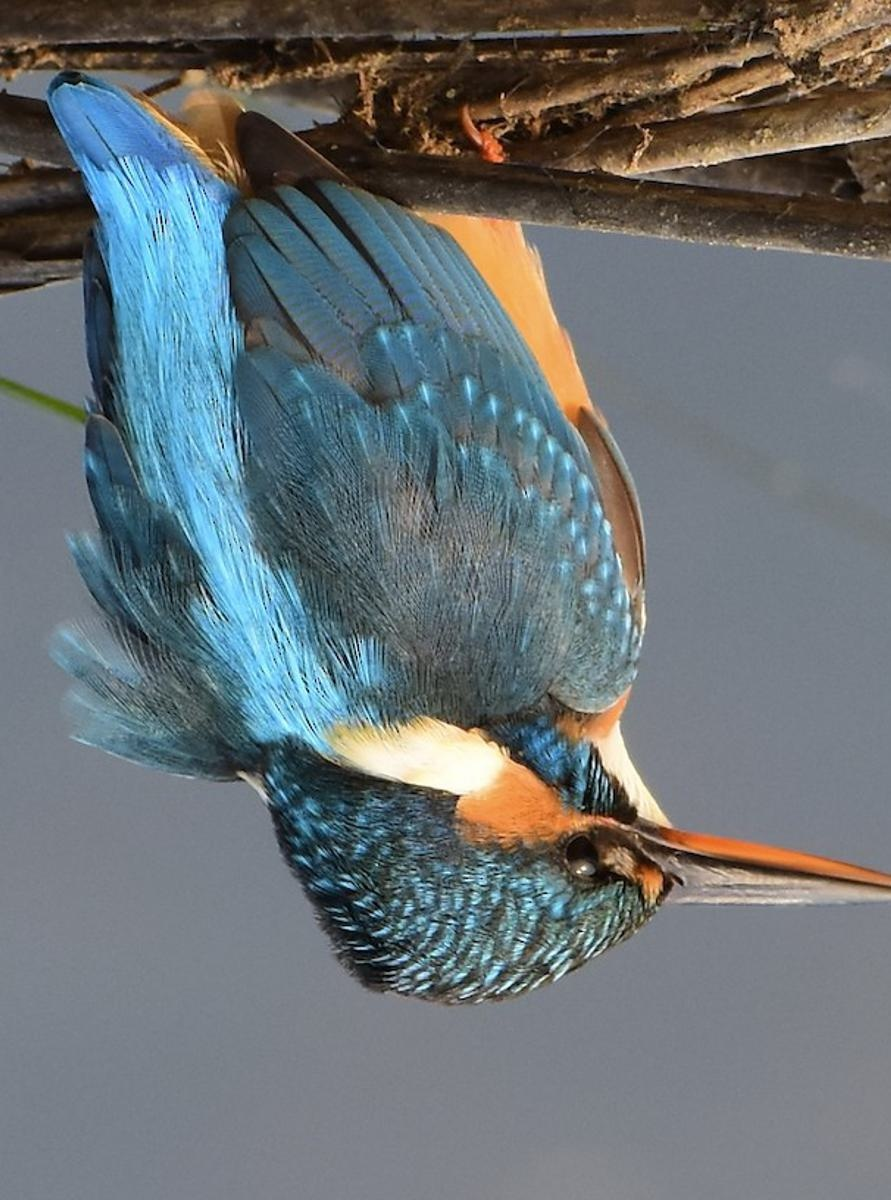kingfisher: (75, 66, 891, 1022)
